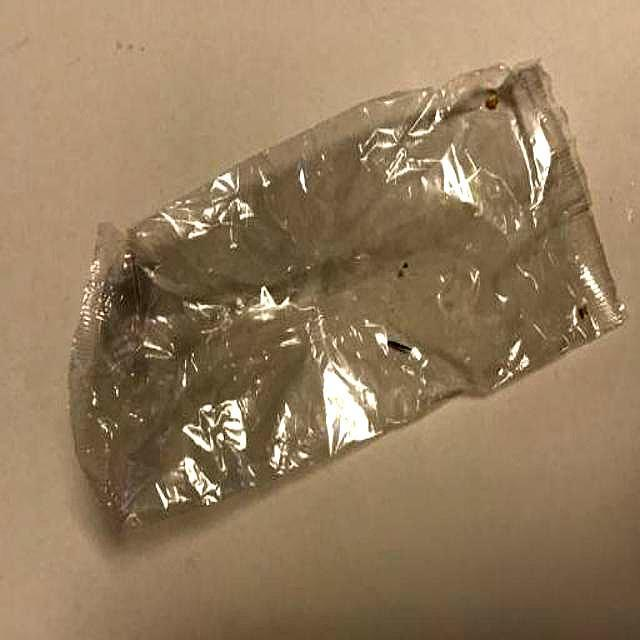Non-biodegradable: (66, 56, 628, 539)
